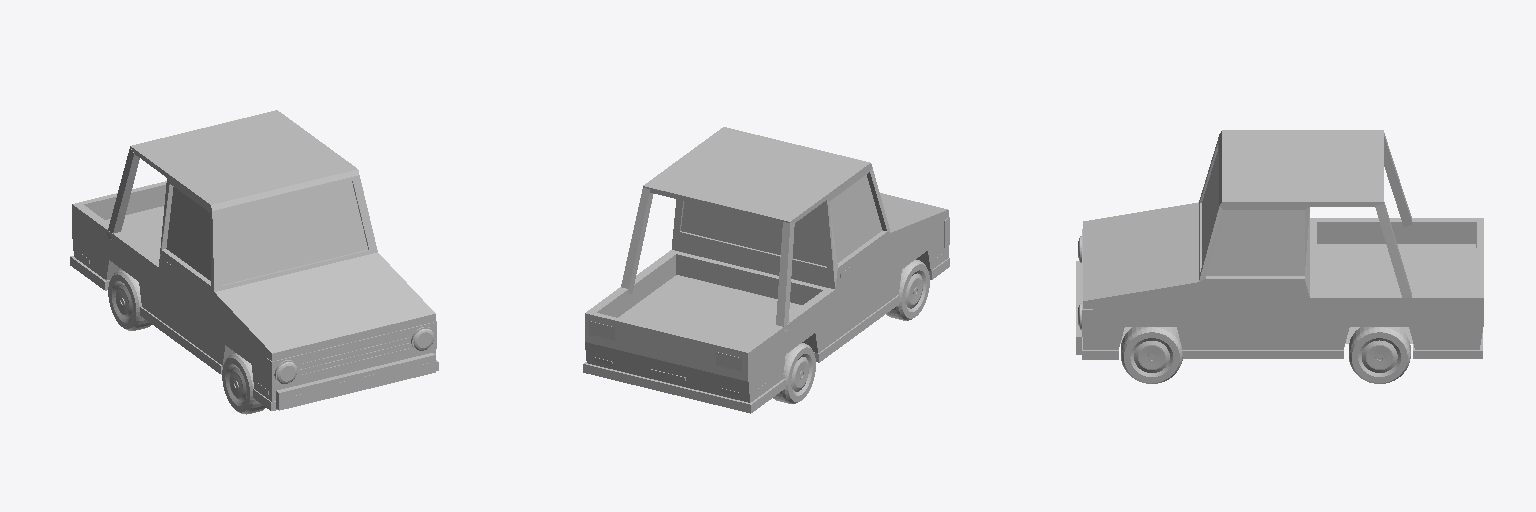
File: lowpoly_car.obj
The picture shows the model from 3 angles: view 1: azimuth 30°, elevation 25°; view 2: azimuth 150°, elevation 25°; view 3: azimuth 270°, elevation 25°; orthographic projection.
Visible parts, largest first — view 1: Cube_1, Cube.3_1, Cube.4, Cylinder.1_1, Cylinder.7, Cube, Cube.1_1, Cube.2; view 2: Cube_1, Cube, Cube.1, Cylinder.1_1, Cylinder.7, Cube.1_1, Cube.2_1, Cube.2; view 3: Cube_1, Cube, Cylinder.5, Cylinder.6, Cube.2, Cube.2_1, Cube.1_1, Cube.1.
Part boxes in pixels (bbox=[...]): Cube_1: bbox=[72, 110, 435, 401]; Cube.3_1: bbox=[267, 321, 436, 388]; Cube.4: bbox=[276, 353, 435, 410]; Cylinder.1_1: bbox=[108, 270, 151, 330]; Cylinder.7: bbox=[222, 353, 265, 414]; Cube: bbox=[105, 206, 163, 258]; Cube.1_1: bbox=[107, 148, 139, 239]; Cube.2: bbox=[140, 307, 222, 374]; Cube_1: bbox=[585, 127, 948, 402]; Cube: bbox=[618, 275, 802, 348]; Cube.1: bbox=[583, 362, 785, 413]; Cylinder.1_1: bbox=[773, 343, 815, 403]; Cylinder.7: bbox=[886, 260, 929, 320]; Cube.1_1: bbox=[776, 222, 794, 331]; Cube.2_1: bbox=[621, 188, 652, 293]; Cube.2: bbox=[814, 295, 899, 362]; Cube_1: bbox=[1083, 130, 1483, 349]; Cube: bbox=[1317, 244, 1475, 293]; Cylinder.5: bbox=[1349, 327, 1410, 383]; Cylinder.6: bbox=[1121, 327, 1182, 383]; Cube.2: bbox=[1183, 350, 1343, 358]; Cube.2_1: bbox=[1375, 202, 1411, 297]; Cube.1_1: bbox=[1384, 133, 1411, 226]; Cube.1: bbox=[1413, 333, 1482, 358].
Size of the model in its own units: 155 by 158 by 324.